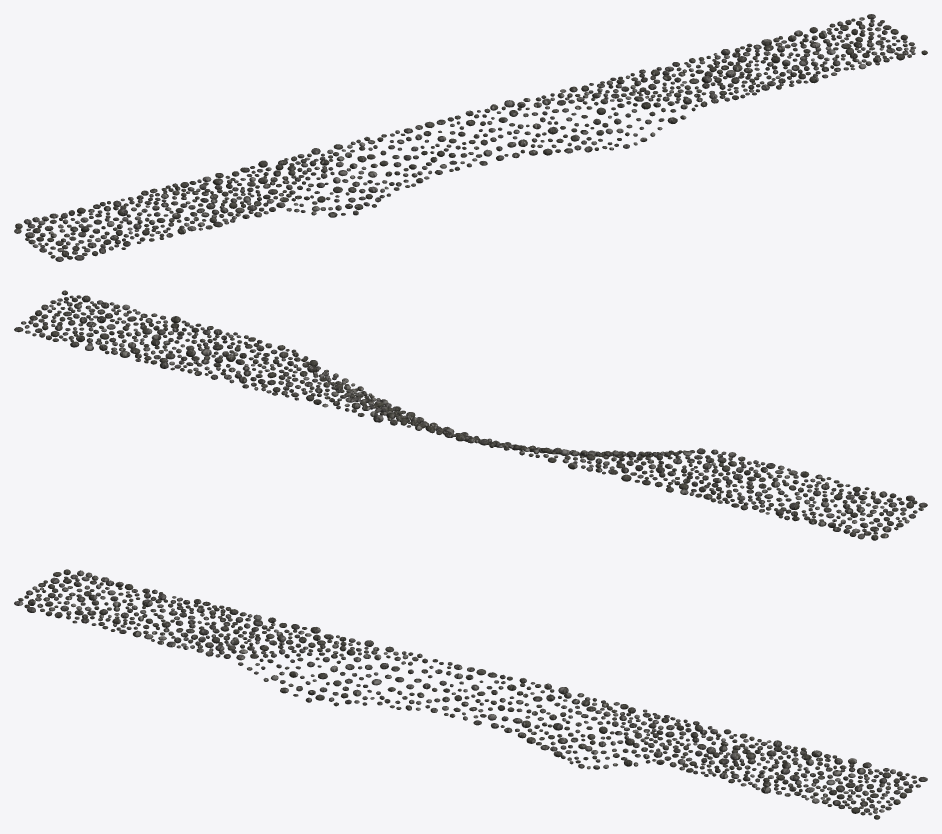
File: alpine-shore-scree.glb
The picture shows the model from 3 angles, top to bottom: view 1: azimuth 30°, elevation 25°; view 2: azimuth 150°, elevation 25°; view 3: azimuth 330°, elevation 25°; orthographic projection.
Bounding box in the file's own units: 78.47 × 2.59 × 8.78.
Materials: 1 (1 with a texture image).
